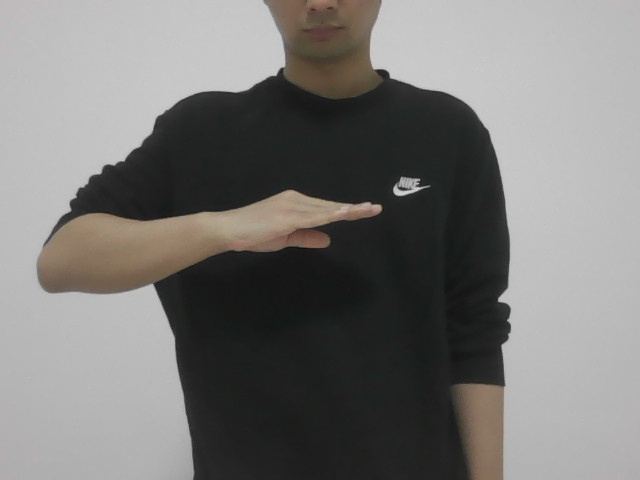late/night: (225, 176, 387, 269)
